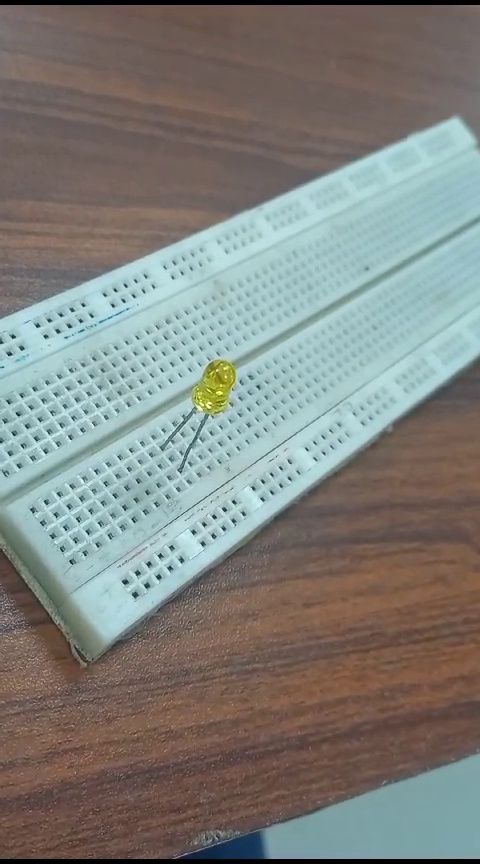LED: (183, 349, 236, 491)
